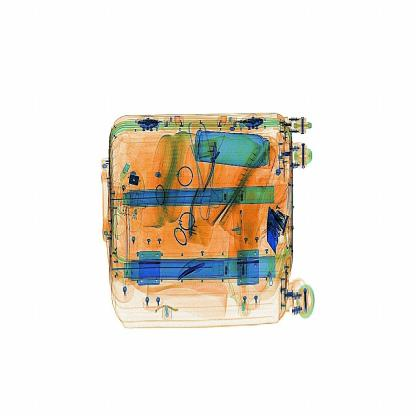pliers: (166, 249, 222, 293)
